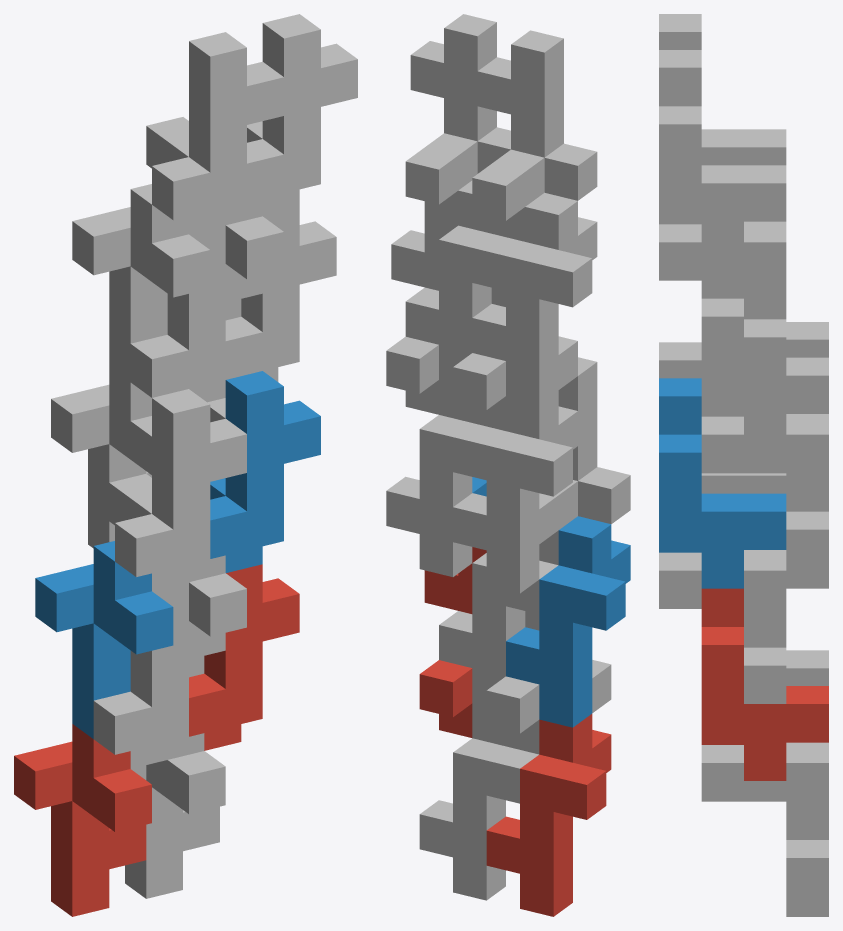
The model's file is tiling.obj.
The picture shows the model from 3 angles, left to right: view 1: azimuth 30°, elevation 25°; view 2: azimuth 150°, elevation 25°; view 3: azimuth 270°, elevation 25°; orthographic projection. The views are drawn at different scales.
Parts seen in each view (by area): view 1: copy_2_domain_2, copy_2_domain_4, copy_1_domain_1, copy_1_domain_2, copy_1_domain_4, copy_2_domain_6, copy_2_domain_8, copy_2_domain_1, copy_2_domain_5, copy_2_domain_3, copy_1_domain_5, copy_1_domain_3 (+4 smaller); view 2: copy_2_domain_4, copy_1_domain_2, copy_1_domain_4, copy_1_domain_3, copy_1_domain_1, copy_2_domain_8, copy_1_domain_7, copy_1_domain_5, copy_1_domain_8, copy_2_domain_2, copy_1_domain_6, copy_2_domain_7 (+3 smaller); view 3: copy_2_domain_6, copy_2_domain_8, copy_2_domain_7, copy_2_domain_5, copy_1_domain_7, copy_1_domain_5, copy_1_domain_8, copy_1_domain_6, copy_2_domain_4, copy_2_domain_2, copy_2_domain_1, copy_2_domain_3.
Boxes of the visible parts, <box> form: copy_2_domain_2: <box>109,389,246,590</box>; copy_2_domain_4: <box>146,32,283,234</box>; copy_1_domain_1: <box>14,724,151,916</box>; copy_1_domain_2: <box>35,541,173,738</box>; copy_1_domain_4: <box>72,184,210,381</box>; copy_2_domain_6: <box>210,371,320,572</box>; copy_2_domain_8: <box>247,14,357,215</box>; copy_2_domain_1: <box>93,582,225,768</box>; copy_2_domain_5: <box>189,564,299,750</box>; copy_2_domain_3: <box>130,225,262,399</box>; copy_1_domain_5: <box>125,733,225,898</box>; copy_1_domain_3: <box>51,367,151,548</box>; copy_2_domain_4: <box>472,30,597,241</box>; copy_1_domain_2: <box>506,516,630,727</box>; copy_1_domain_4: <box>472,192,597,404</box>; copy_1_domain_3: <box>453,390,577,593</box>; copy_1_domain_1: <box>486,714,611,916</box>; copy_2_domain_8: <box>405,14,510,225</box>; copy_1_domain_7: <box>386,380,505,576</box>; copy_1_domain_5: <box>419,703,538,900</box>; copy_1_domain_8: <box>405,180,524,382</box>; copy_2_domain_2: <box>539,357,630,565</box>; copy_1_domain_6: <box>439,553,557,706</box>; copy_2_domain_7: <box>386,217,457,414</box>; copy_2_domain_6: <box>659,378,786,588</box>; copy_2_domain_8: <box>659,50,786,260</box>; copy_2_domain_7: <box>701,260,828,452</box>; copy_2_domain_5: <box>701,588,828,780</box>; copy_1_domain_7: <box>701,414,828,588</box>; copy_1_domain_5: <box>701,742,828,916</box>; copy_1_domain_8: <box>659,221,786,375</box>; copy_1_domain_6: <box>659,550,786,703</box>; copy_2_domain_4: <box>659,14,786,165</box>; copy_2_domain_2: <box>659,342,786,493</box>; copy_2_domain_1: <box>786,650,828,685</box>; copy_2_domain_3: <box>786,322,828,357</box>.
Size of the model in its own units: 7 by 23 by 4.
